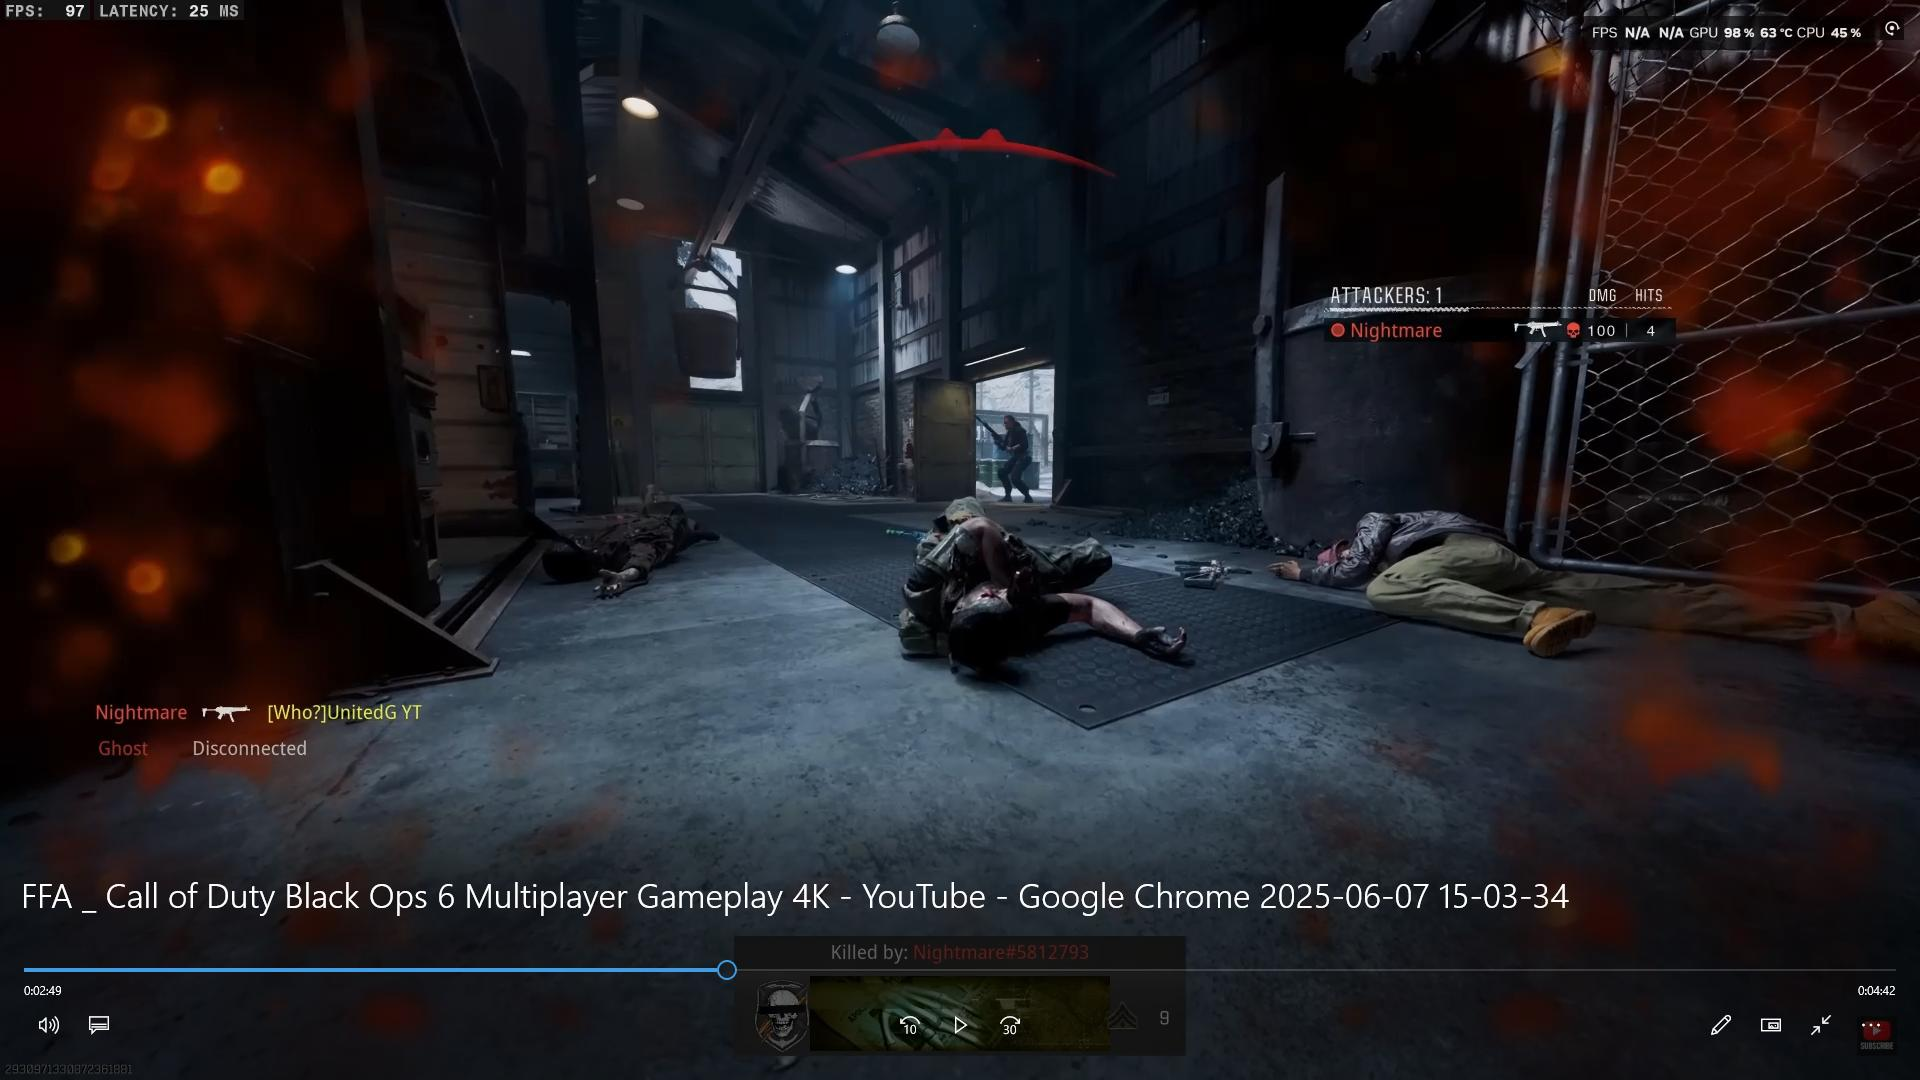Enemy: (976, 405, 1042, 502)
